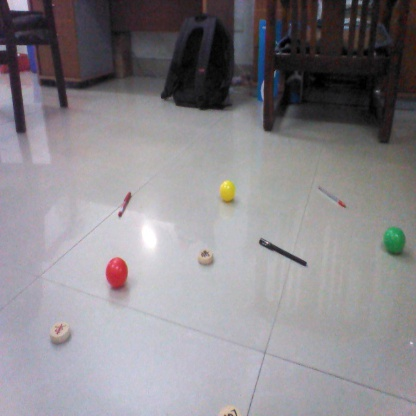ball: (103, 258, 132, 287), (383, 224, 408, 257), (218, 181, 241, 201)
chess: (49, 320, 70, 342), (196, 250, 220, 265), (221, 407, 238, 416)
pen: (259, 241, 312, 266), (315, 184, 350, 209), (117, 193, 131, 215)
